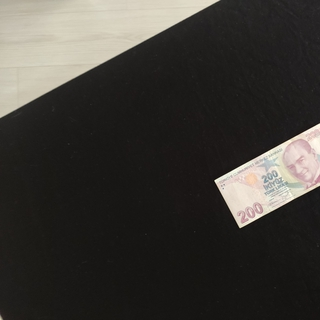200TLFront: (214, 122, 320, 228)
